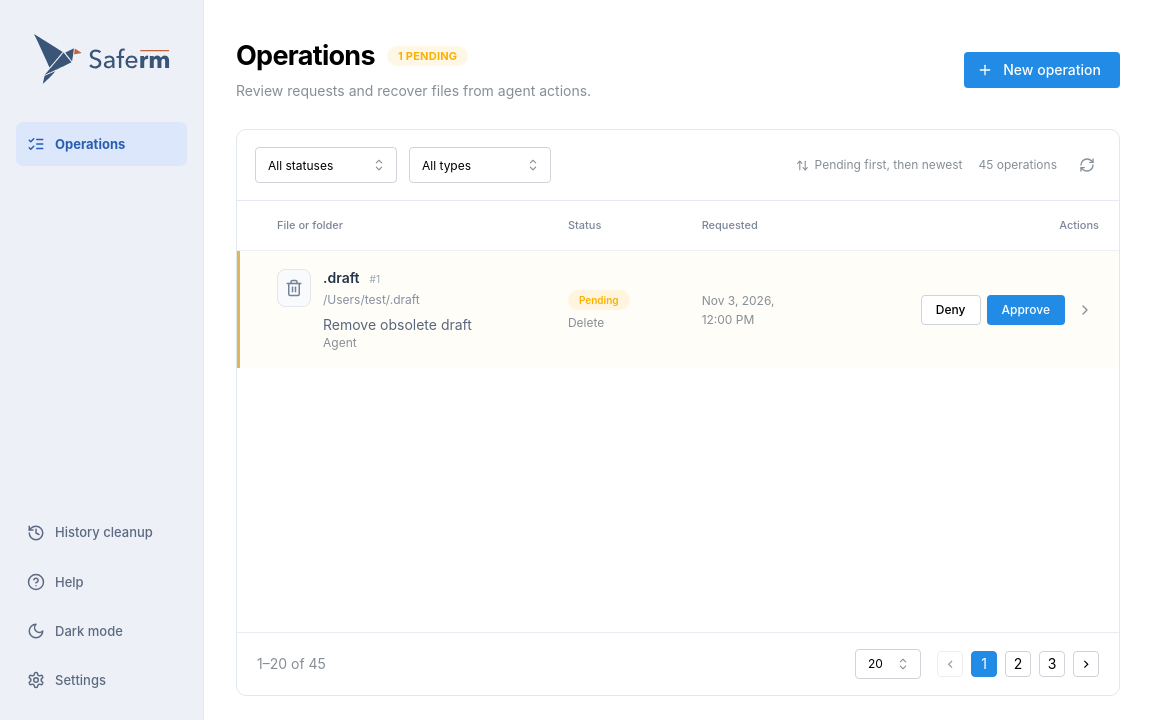
Scenario: Operations interface › confirms deny through history
Click the button "Deny" at [951, 310], box [921, 295, 980, 325]
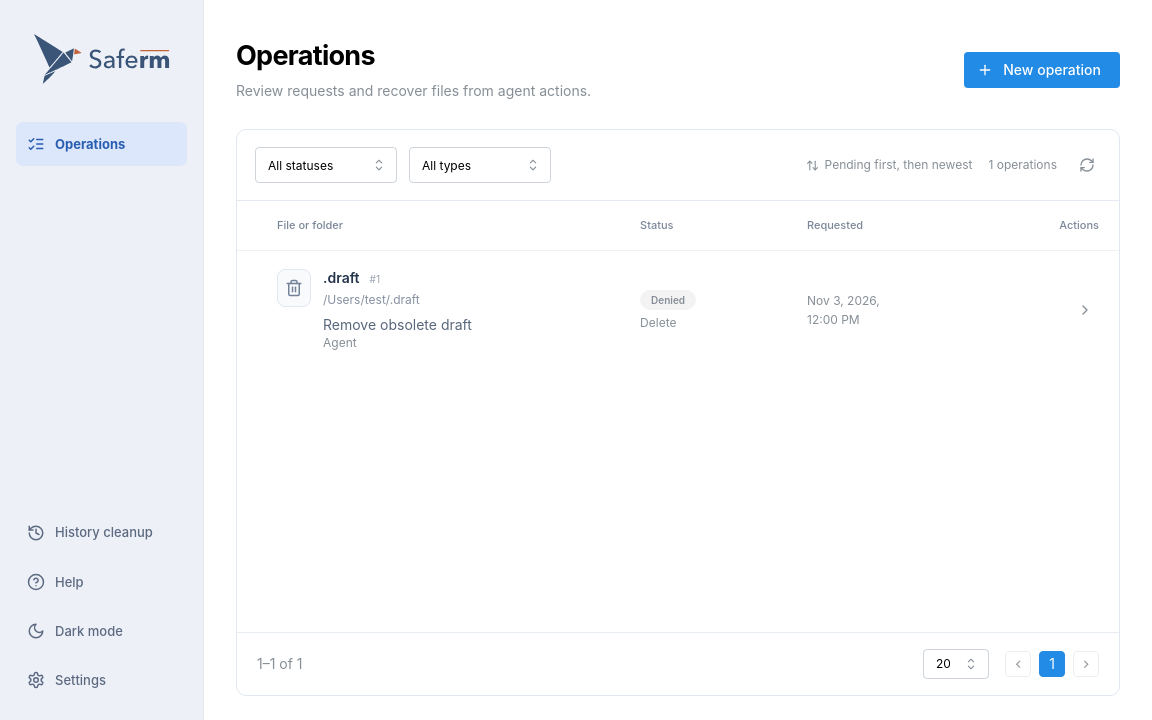
expect the button "New operation" is enabled: met, box [964, 52, 1120, 88]
expect the text "Denied" is shown: met, box [651, 291, 685, 309]
